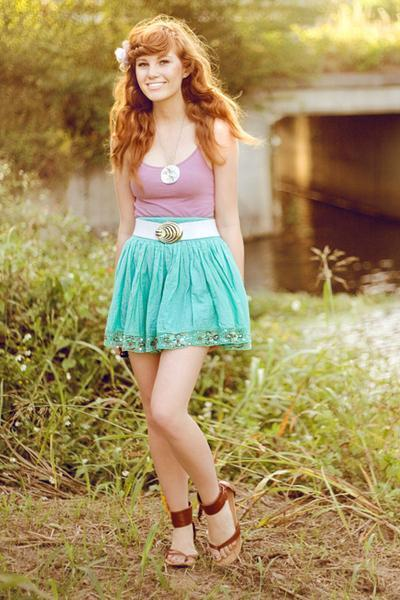shirt: (128, 156, 218, 236)
shoe: (170, 493, 203, 539)
skirt: (103, 236, 250, 353)
